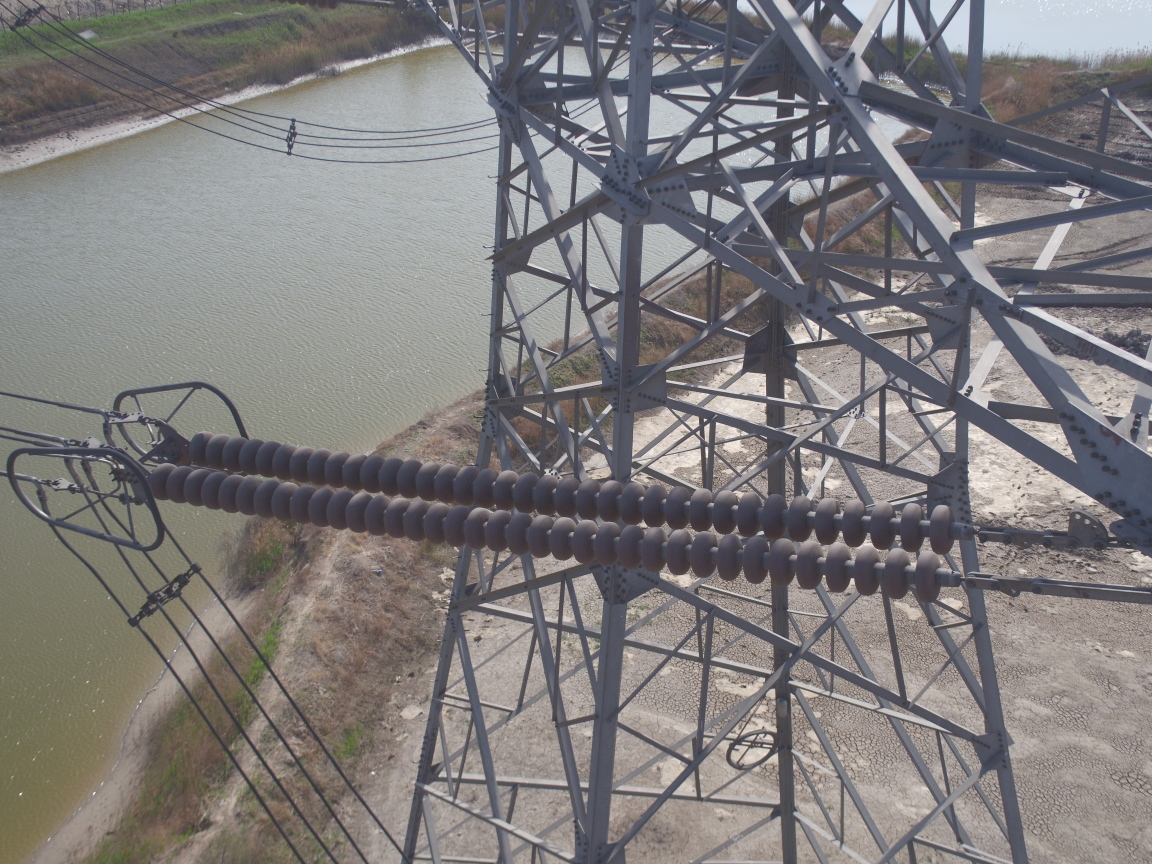insulator: (125, 428, 1065, 606)
